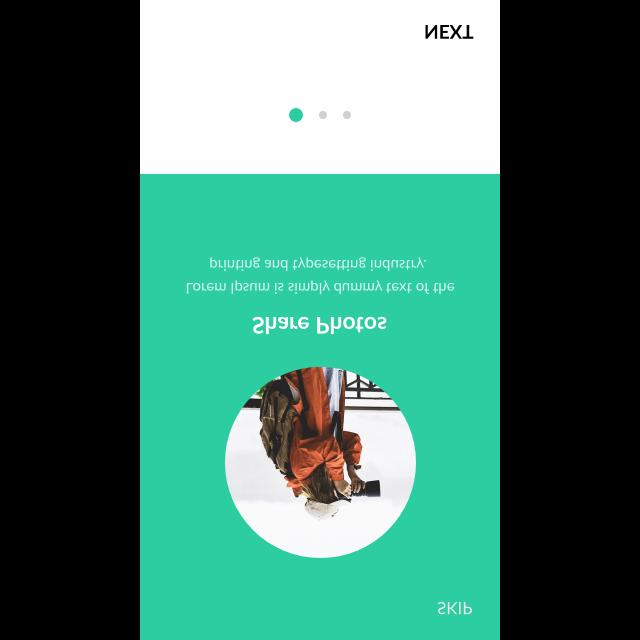image: (225, 366, 417, 558)
pageindicator: (288, 107, 352, 123)
text: (187, 256, 455, 294), (253, 314, 387, 334), (424, 24, 476, 40), (437, 600, 473, 614)
